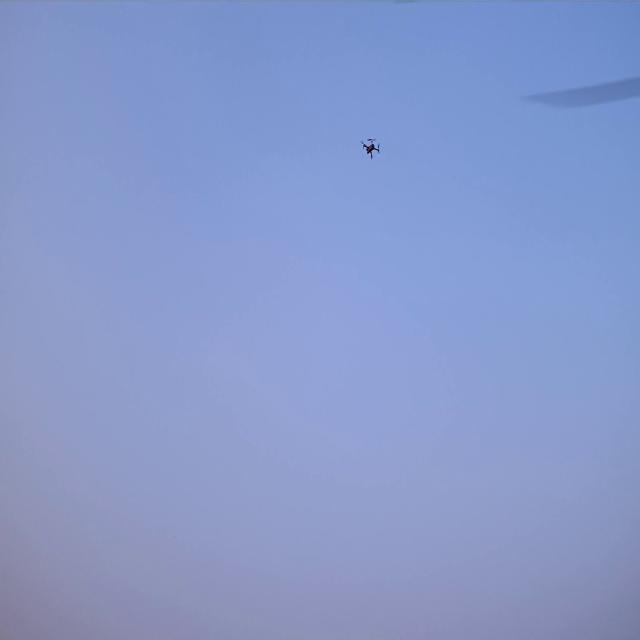UAV: (363, 139, 379, 156)
